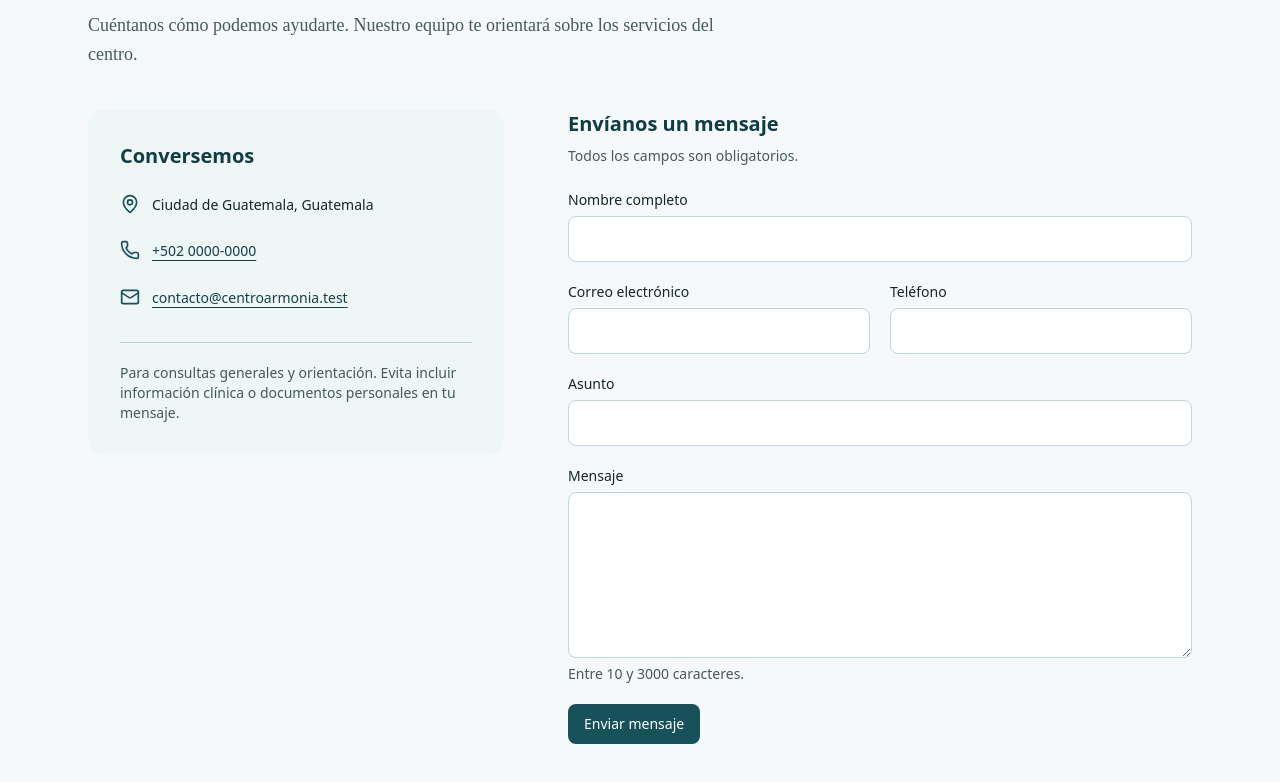
Scenario: Contacto público › valida campos vacios sin enviar peticiones
(page scrolled)
Step 1. Click the button "Enviar mensaje" → point(634, 724), box top-left (568, 704), bottom-right (700, 744)
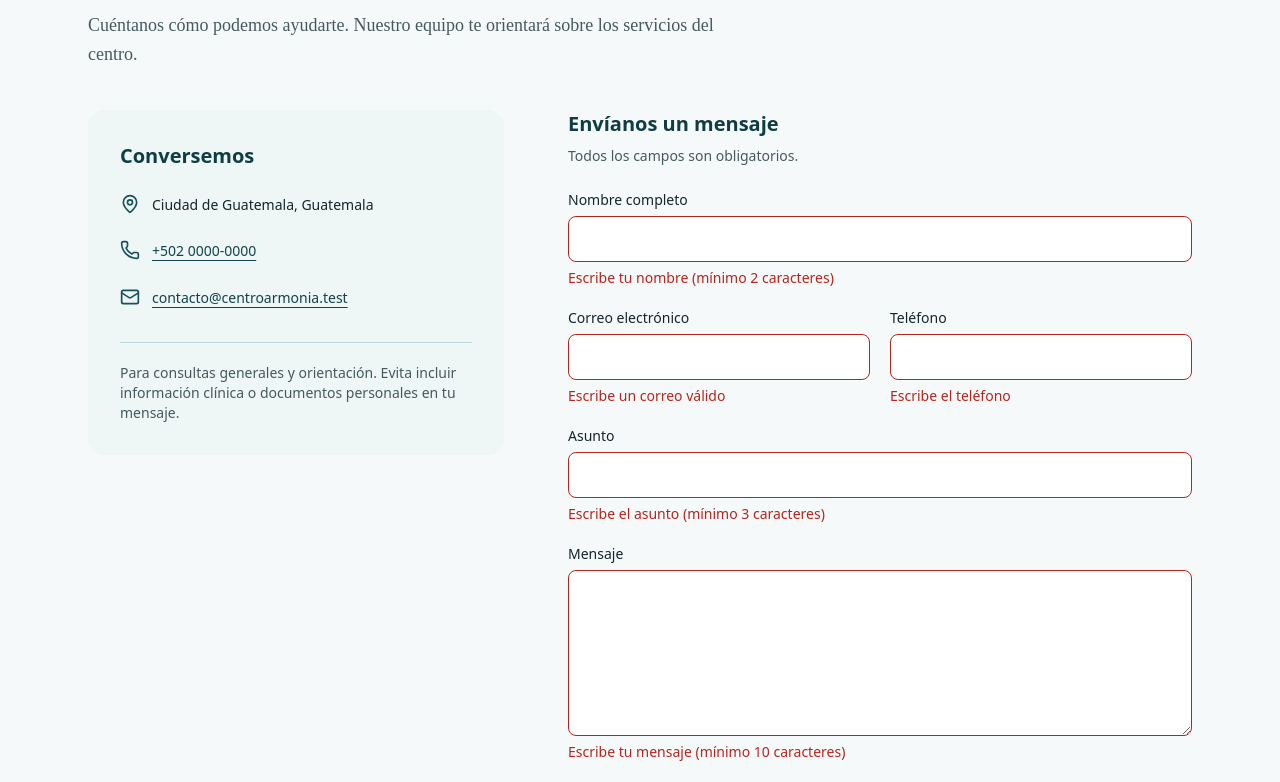
expect the text "Escribe tu nombre (mínimo 2 caracteres)" is shown: met, box top-left (568, 268), bottom-right (834, 286)
